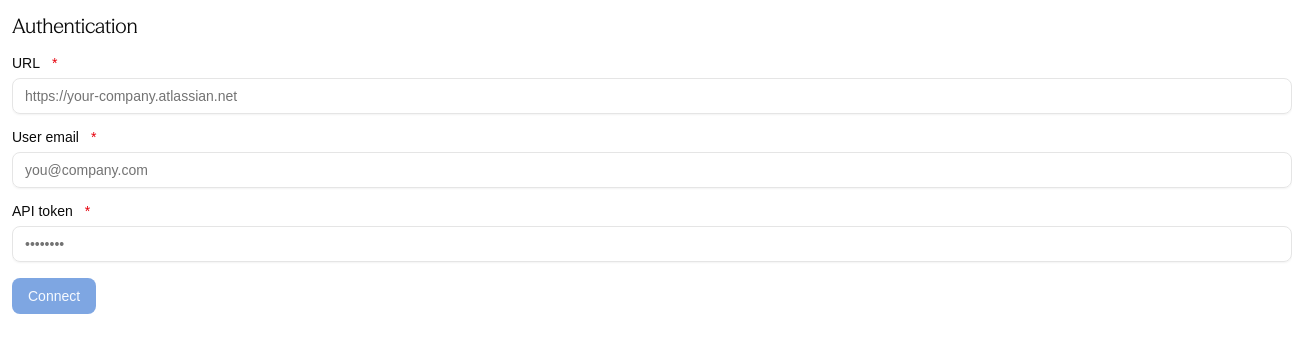
Test case: ConfluenceForm › Form Validation › should show validation error for invalid URL format
The image size is (1304, 359).
Type "invalid-url" into the field labelled "URL *" at (652, 96), box [12,78,1292,114]
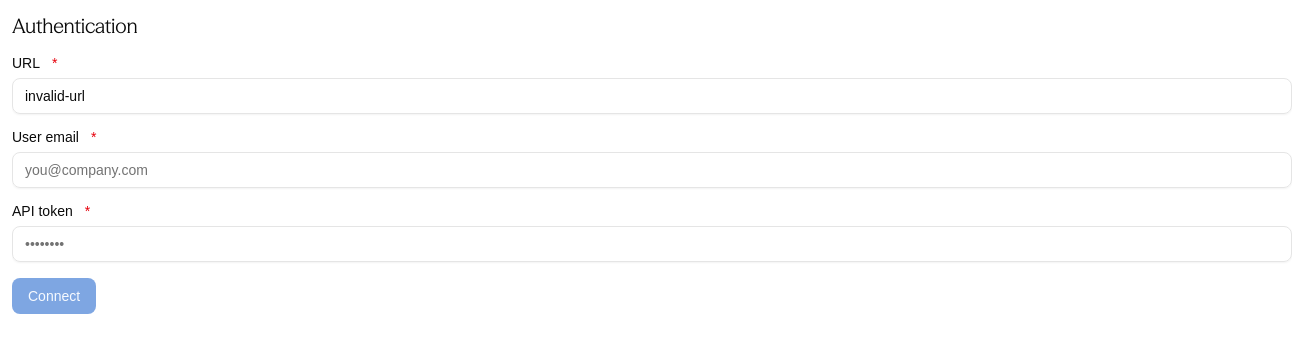
Leave the field labelled "URL *", box [12,78,1292,114]
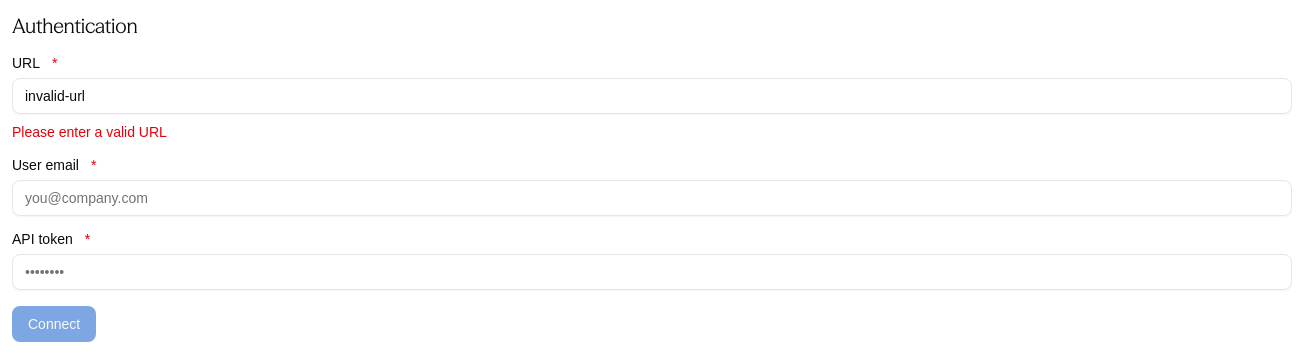
Expected: the text "Please enter a valid URL" is shown, [12,122,167,142]
